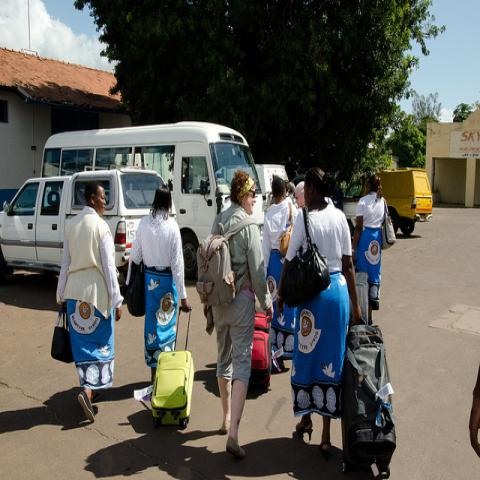bus: (39, 122, 265, 286)
truck: (1, 168, 178, 287), (343, 168, 434, 238)
